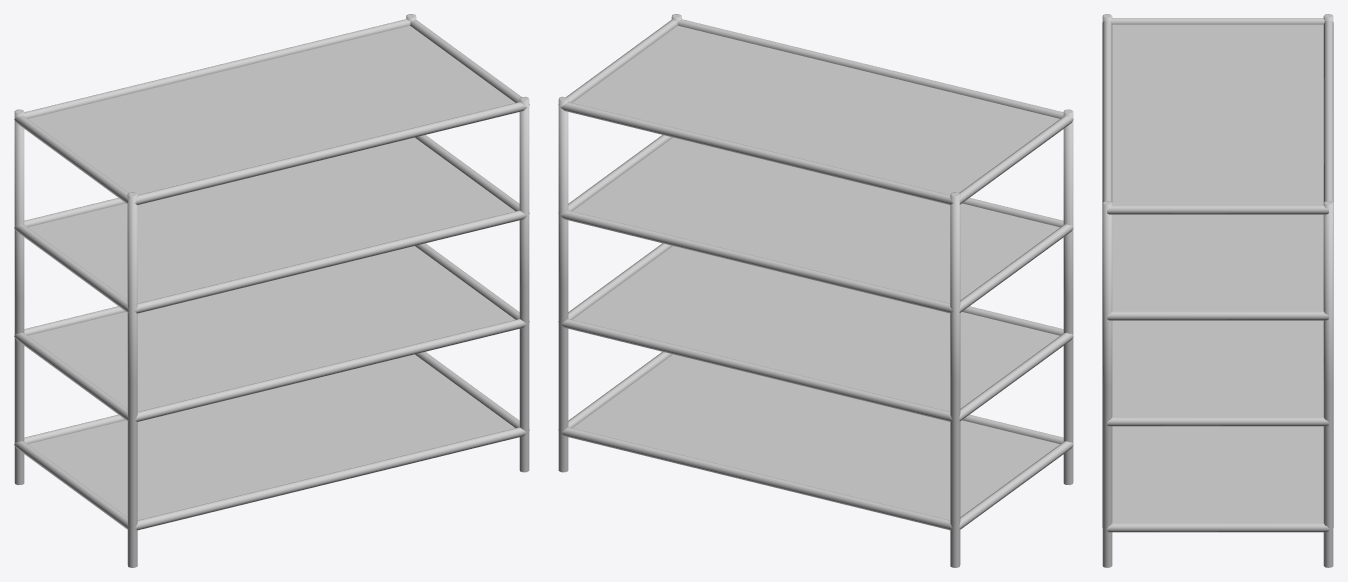
The model's file is Rak Bahan Kering.fbx.
3 renders of one model, left to right at view 1: azimuth 30°, elevation 25°; view 2: azimuth 150°, elevation 25°; view 3: azimuth 270°, elevation 25°, orthographic. The views are drawn at different scales.
Visible parts, largest first — view 1: Rak Bahan Kering; view 2: Rak Bahan Kering; view 3: Rak Bahan Kering.
Boxes of the visible parts, x1,y1,x2,y2 form: Rak Bahan Kering: (14,14,529,567); Rak Bahan Kering: (558,14,1073,567); Rak Bahan Kering: (1102,14,1333,567).
Bounding box in the file's own units: 92.25 × 81.5 × 47.03.
Materials: 1 (1 with a texture image).
